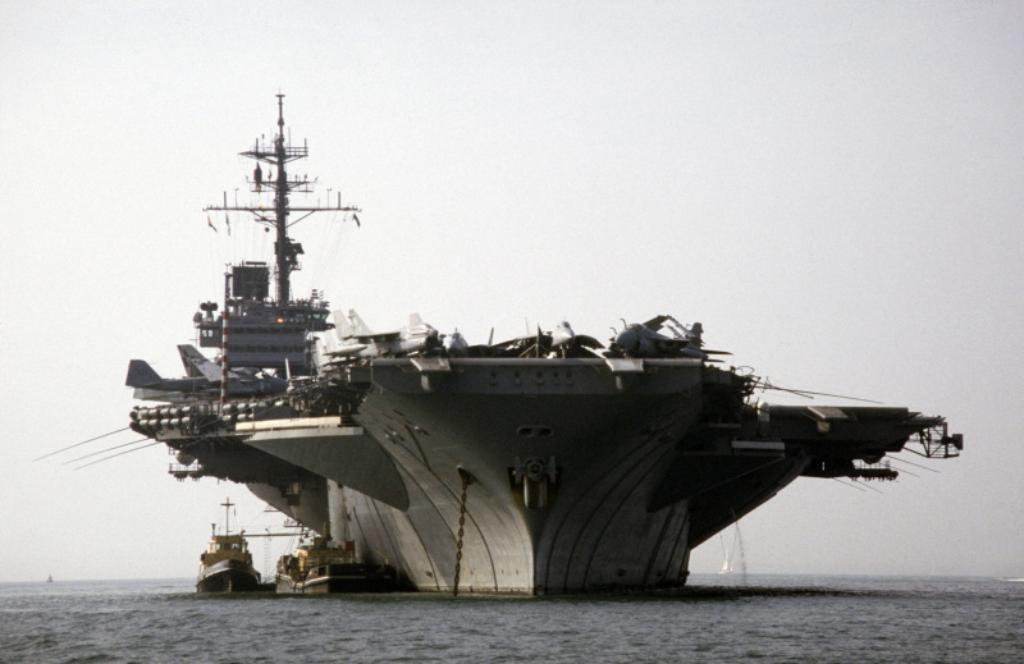Warship: (126, 85, 968, 608)
